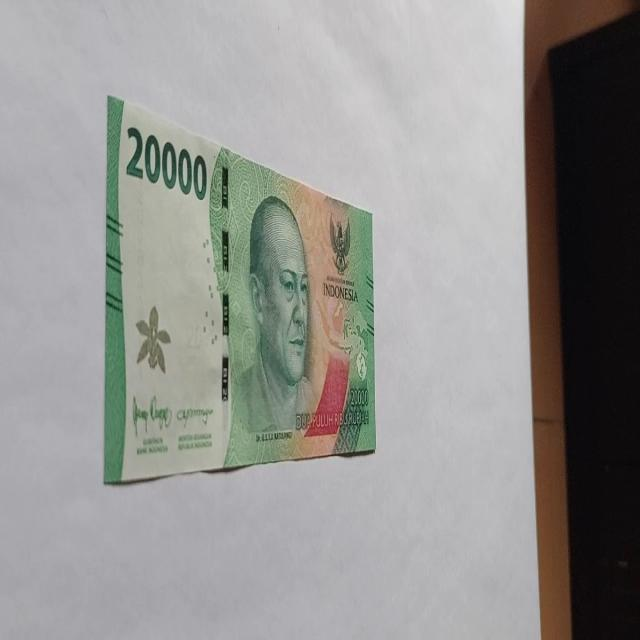dua puluh ribu rupiah: (103, 93, 377, 486), (208, 146, 374, 470)
